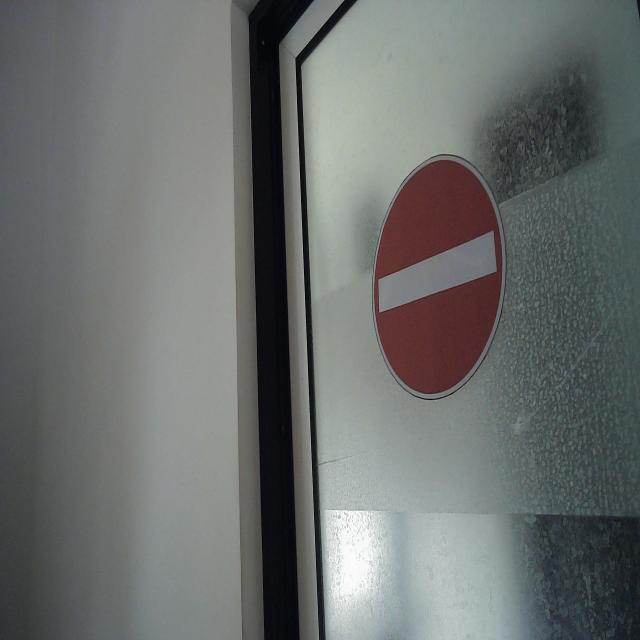no_entry: (370, 150, 509, 404)
